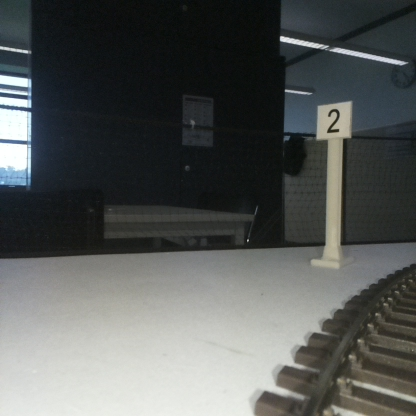white-info-2: (317, 101, 351, 264)
